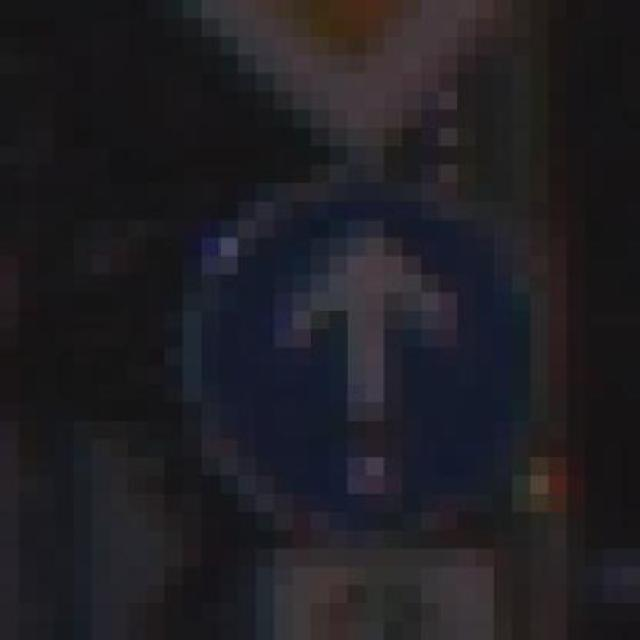Straight Ahead Only: (128, 165, 568, 549)
